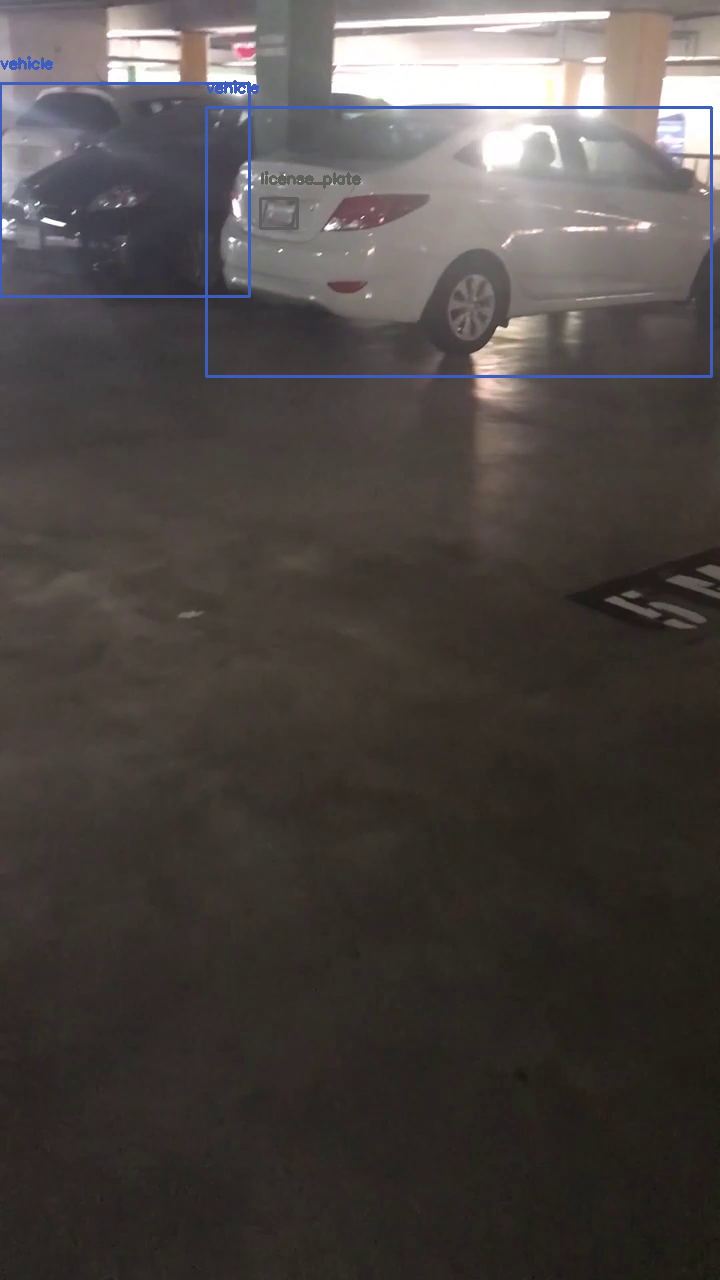license_plate: (260, 198, 297, 228)
vehicle: (206, 107, 711, 376), (0, 83, 249, 296)
